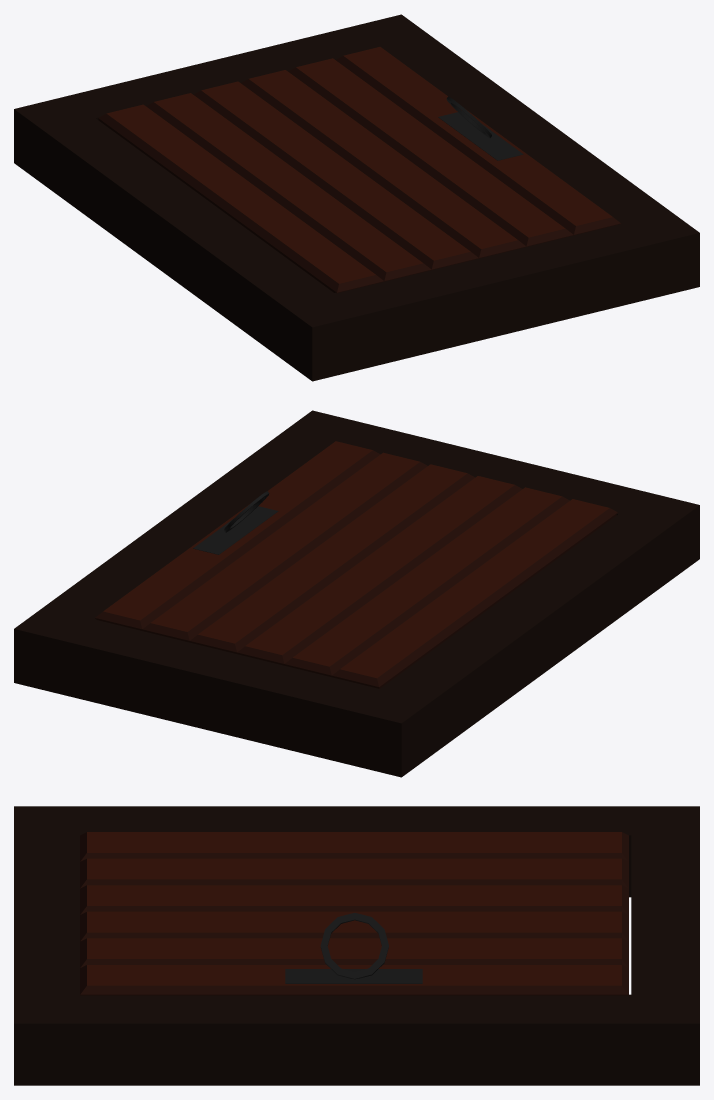
Rendered from Trap Door.FBX.
3 views of the same model, one above another, from view 1: azimuth 30°, elevation 25°; view 2: azimuth 150°, elevation 25°; view 3: azimuth 270°, elevation 25° (orthographic). The views are drawn at different scales.
Parts seen in each view (by area): view 1: Trap Door Frame, Trap Door, Trap Door Metal; view 2: Trap Door Frame, Trap Door, Trap Door Metal; view 3: Trap Door Frame, Trap Door, Trap Door Metal, Trap Door Latch.
Boxes of the visible parts, x1,y1,x2,y2 form: Trap Door Frame: (14,14,699,381); Trap Door: (98,47,621,293); Trap Door Metal: (438,111,523,160); Trap Door Frame: (14,410,699,777); Trap Door: (95,441,617,688); Trap Door Metal: (193,505,278,554); Trap Door Frame: (14,806,699,1085); Trap Door: (80,832,628,995); Trap Door Metal: (285,969,422,983); Trap Door Latch: (320,912,388,979).
Size of the model in its own units: 1.5 by 0.38 by 2.
